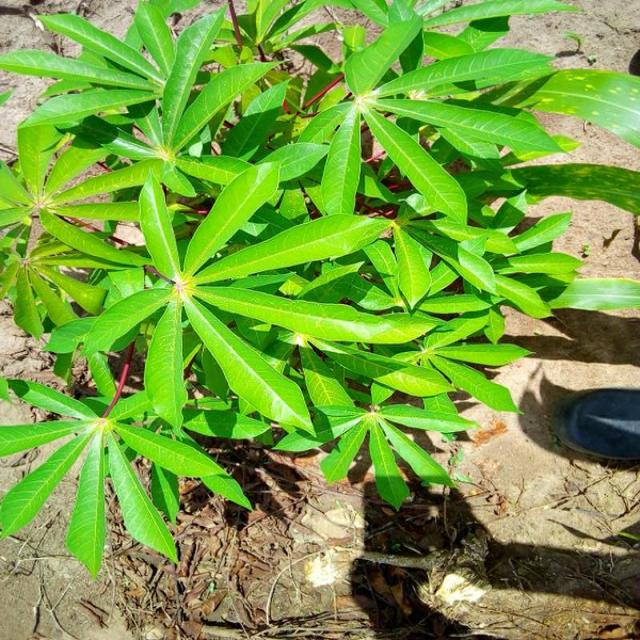cassava leaf: (2, 0, 639, 578)
